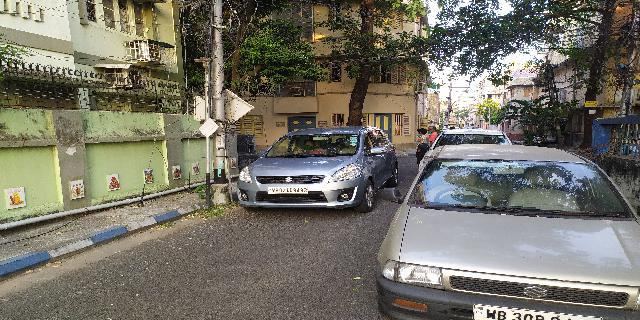Car: (374, 142, 638, 320), (236, 124, 400, 212)
